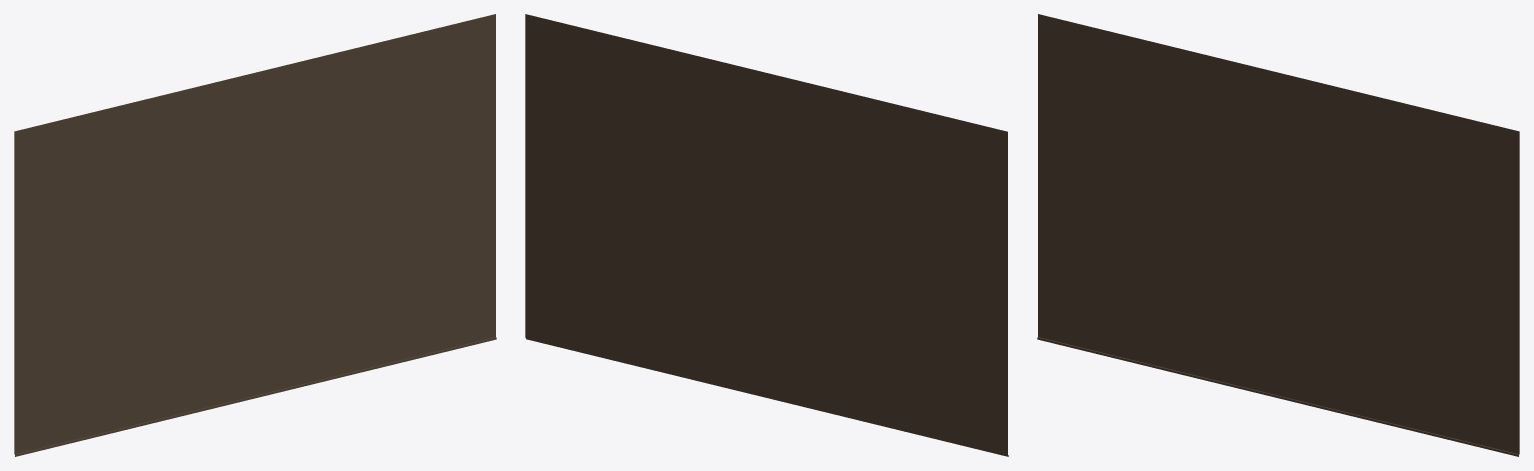
The model's file is Tile08_fix.fbx.
The picture shows the model from 3 angles, left to right: view 1: azimuth 30°, elevation 25°; view 2: azimuth 150°, elevation 25°; view 3: azimuth 330°, elevation 25°; orthographic projection.
Visible parts, largest first — view 1: Tile8; view 2: Tile8; view 3: Tile8.
Boxes of the visible parts, bbox=[...] form: Tile8: bbox=[14, 14, 496, 456]; Tile8: bbox=[525, 14, 1008, 456]; Tile8: bbox=[1037, 14, 1519, 456].
Bounding box in the file's own units: 775 × 500 × 2.
